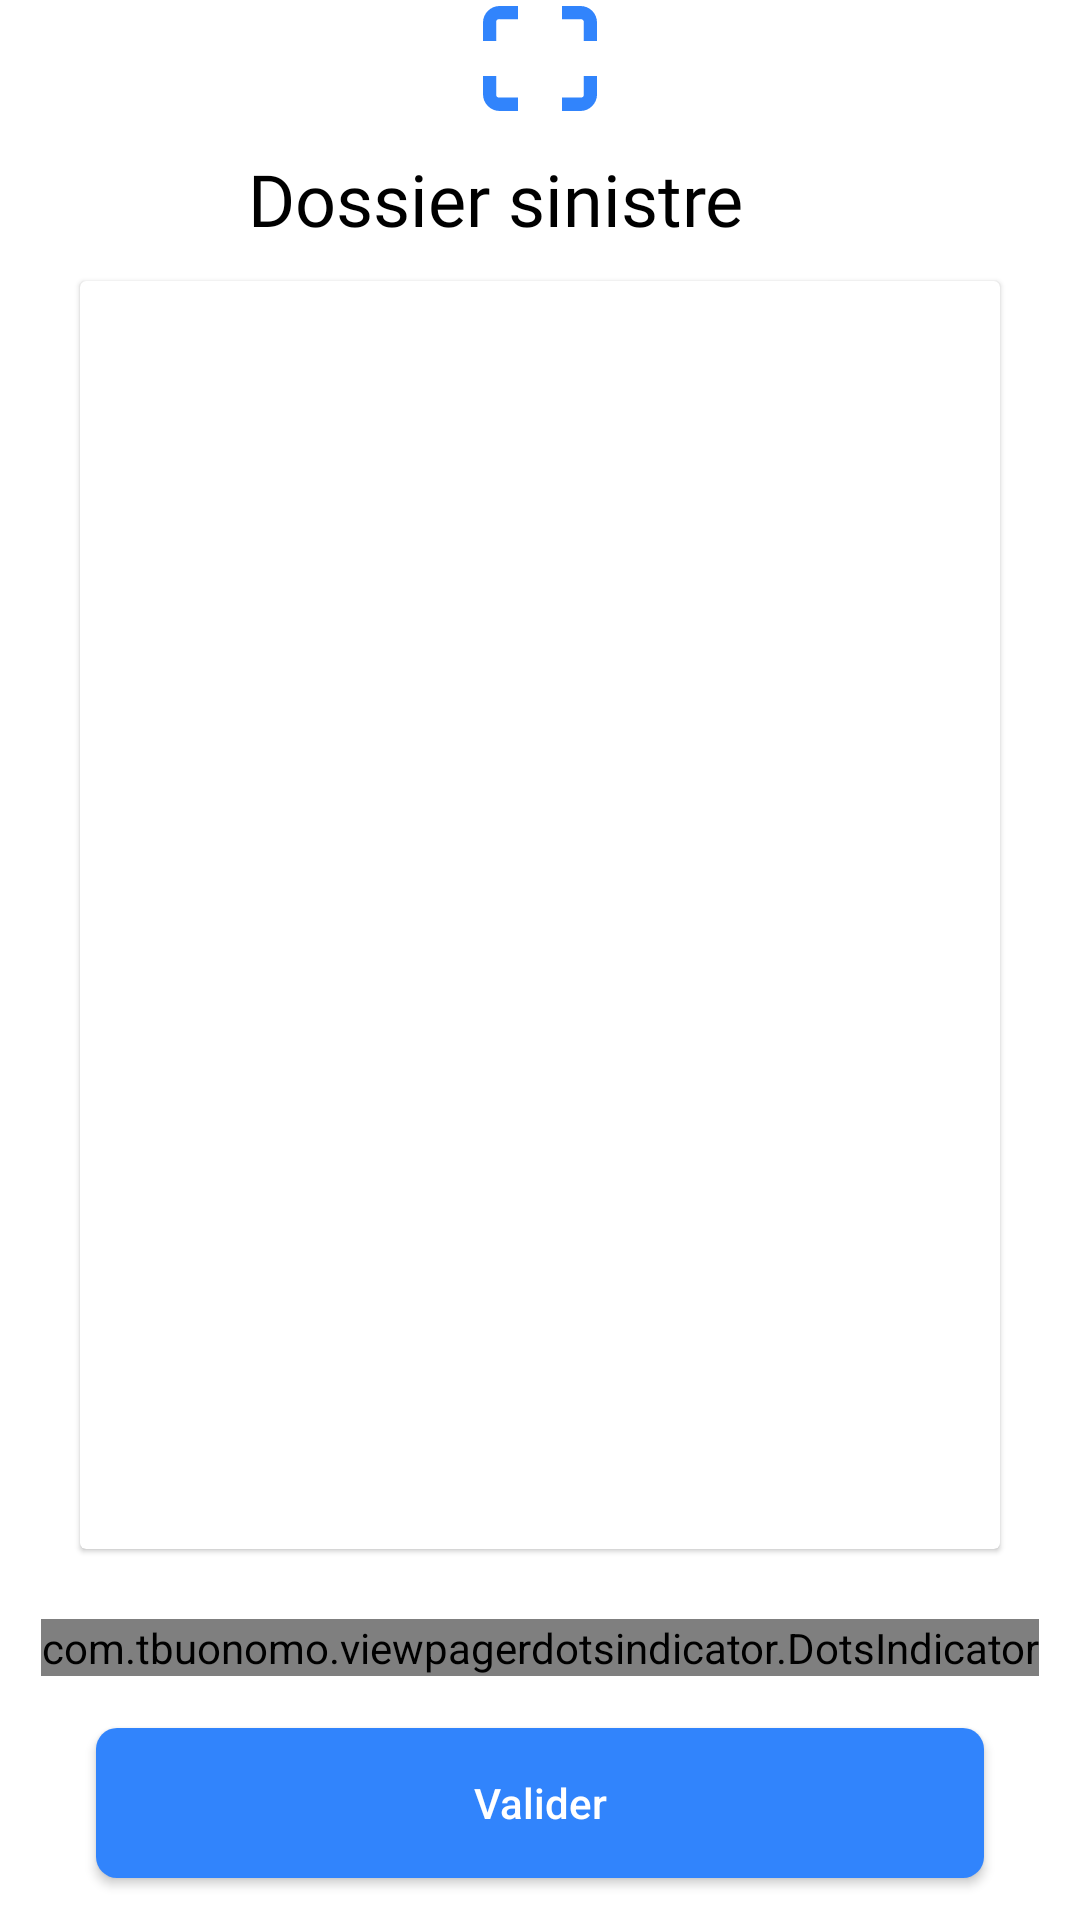

Icons on this 1080w x 1920h Android screen, each with its box as rect(x1, y1, x2, y2):
iscanner: rect(483, 6, 597, 111)
